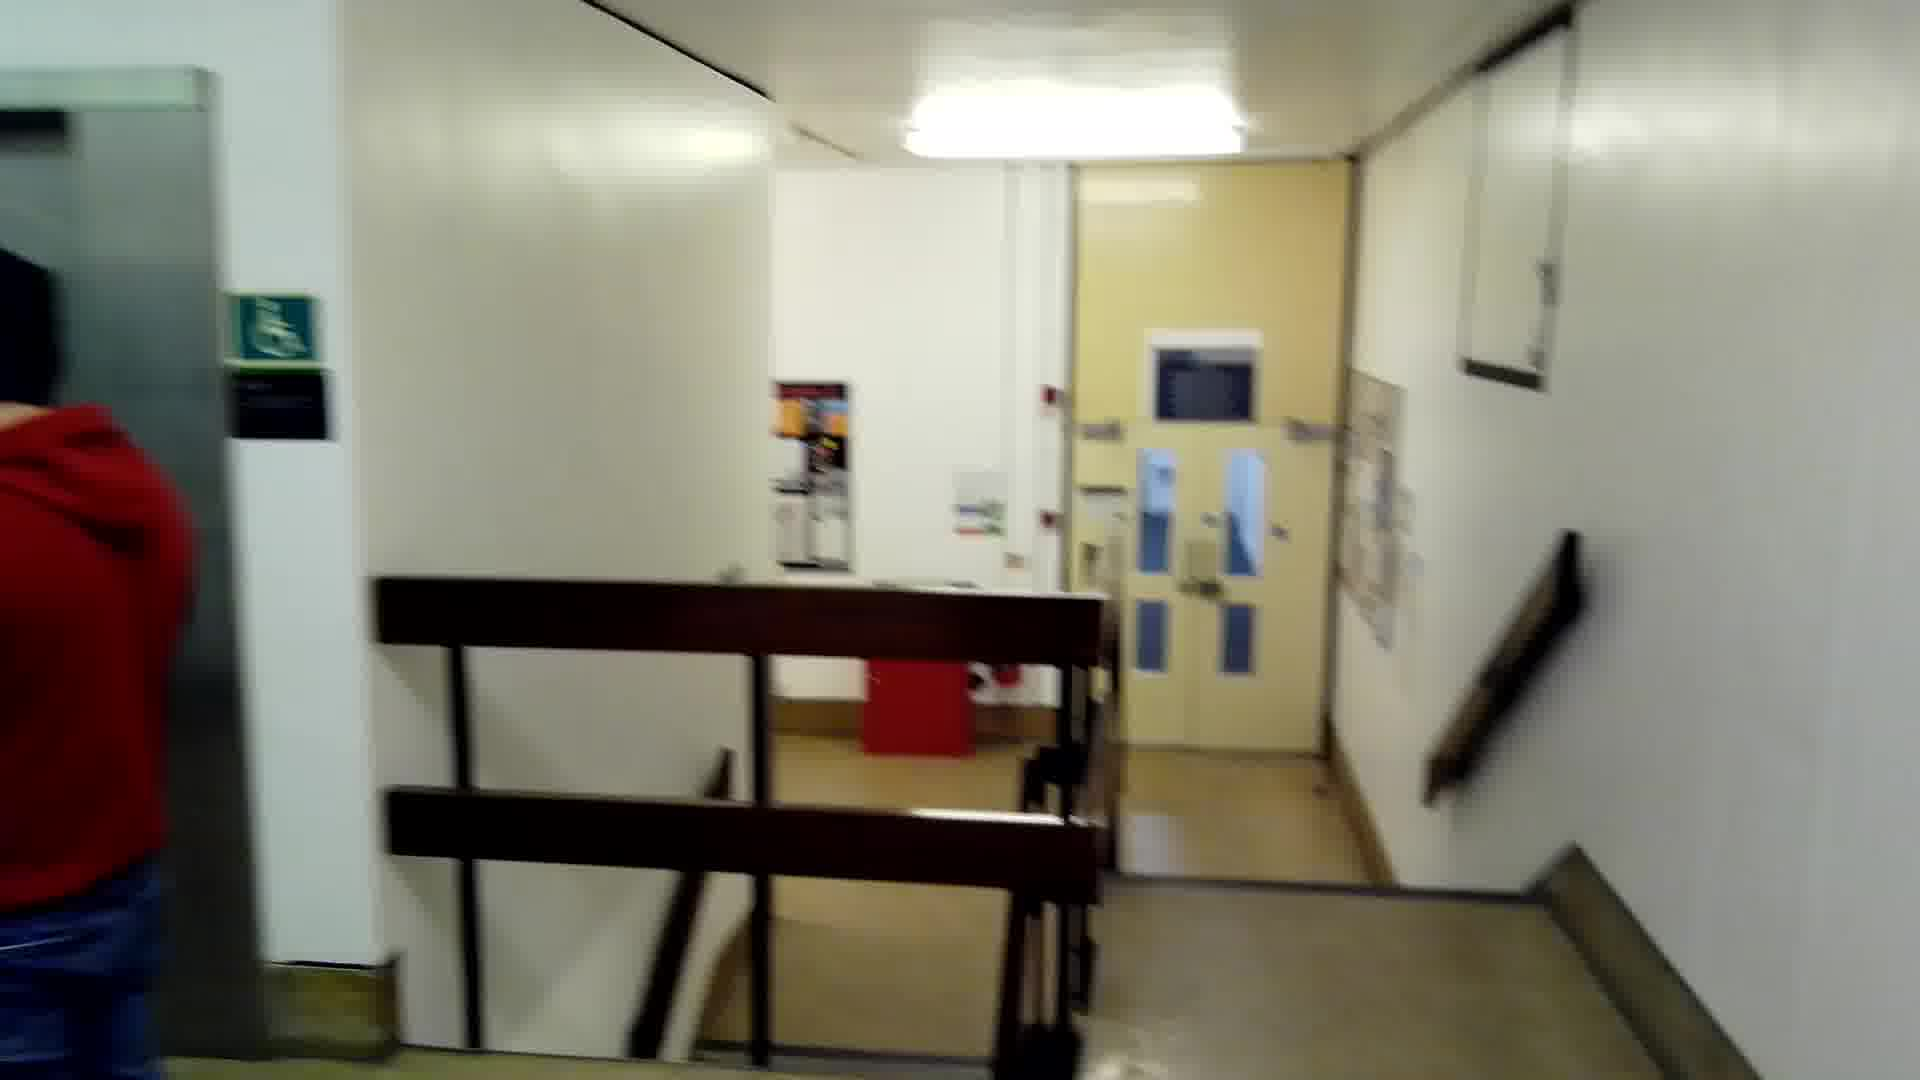Door: (1057, 413, 1348, 761)
Person: (1, 241, 173, 1080)
